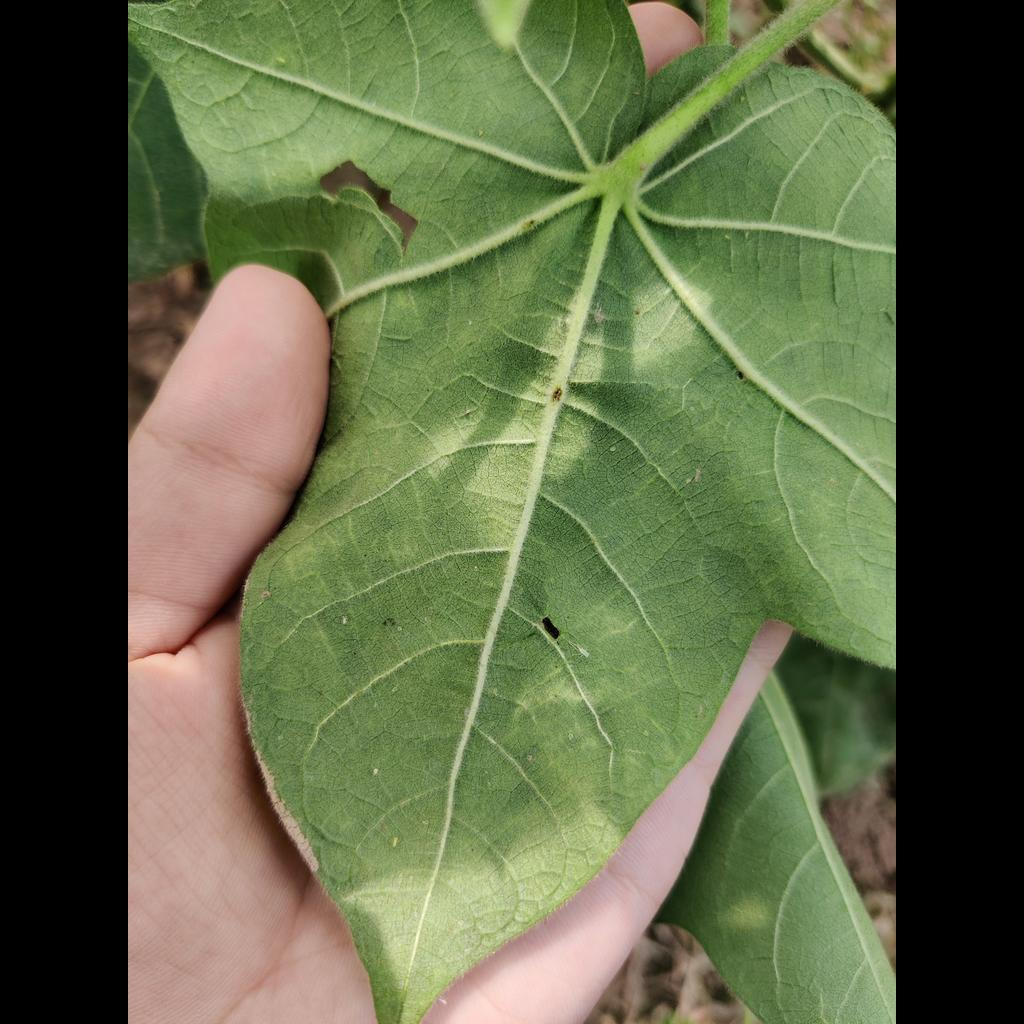adult: (578, 646, 590, 657)
nymph: (277, 57, 288, 64), (372, 767, 379, 776), (341, 617, 348, 625), (478, 130, 484, 136), (609, 446, 616, 451)
